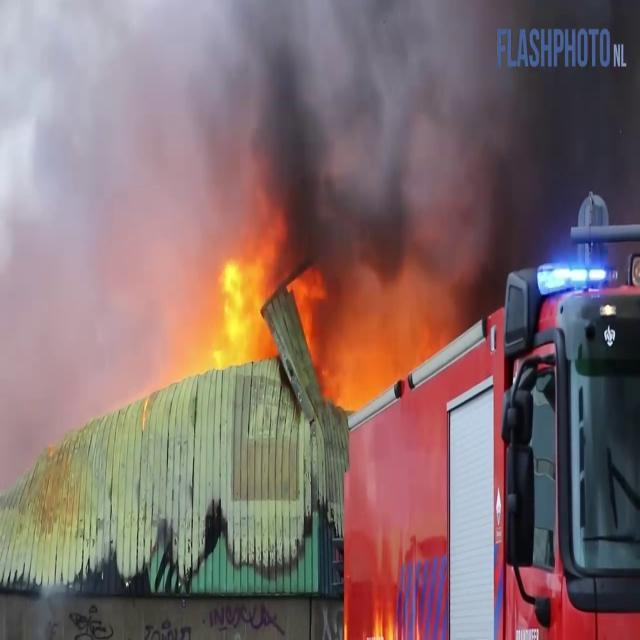Fire: (299, 252, 449, 424), (196, 230, 286, 372)
Smoke: (14, 2, 636, 280), (0, 0, 188, 481)
